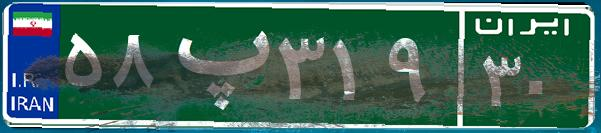0: (525, 38, 570, 115)
1: (330, 28, 385, 110)
3: (273, 28, 330, 110), (475, 38, 525, 113)
5: (57, 26, 110, 107)
8: (110, 28, 158, 105)
9: (385, 28, 445, 110)
پ: (158, 15, 273, 115)
